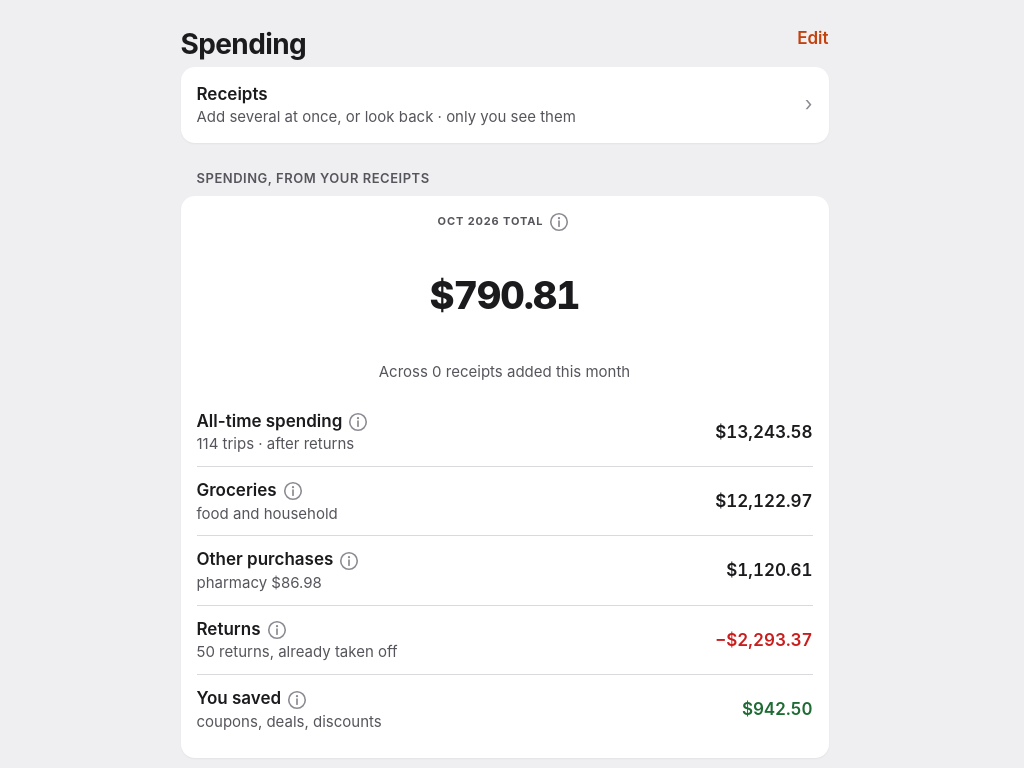
Test: each Spending heading's (i) explains only that heading
Expected: the element with id "an-spend" shows "$13,243.58", [715,422,812,442]
Expected: the element with id "an-spend" shows "−$2,293.37", [715,630,812,650]
What coordinates should you click on to do the following:
click the button named "How this works" next to "All-time spending"
I would click on:
 (358, 422)
Its box is [346,410,370,434].
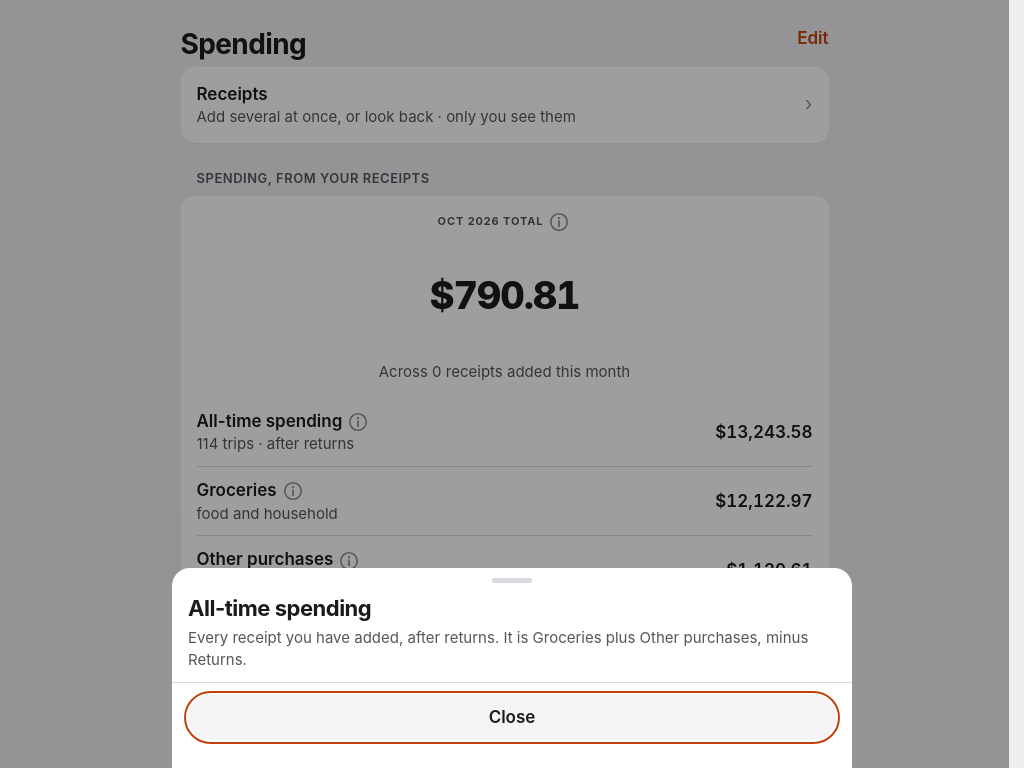
Expected: the heading "All-time spending" is shown, [188,595,371,621]
Expected: the dialog with id "info-sheet" shows "Groceries plus Other purchases, minus Returns", [188,628,808,669]
